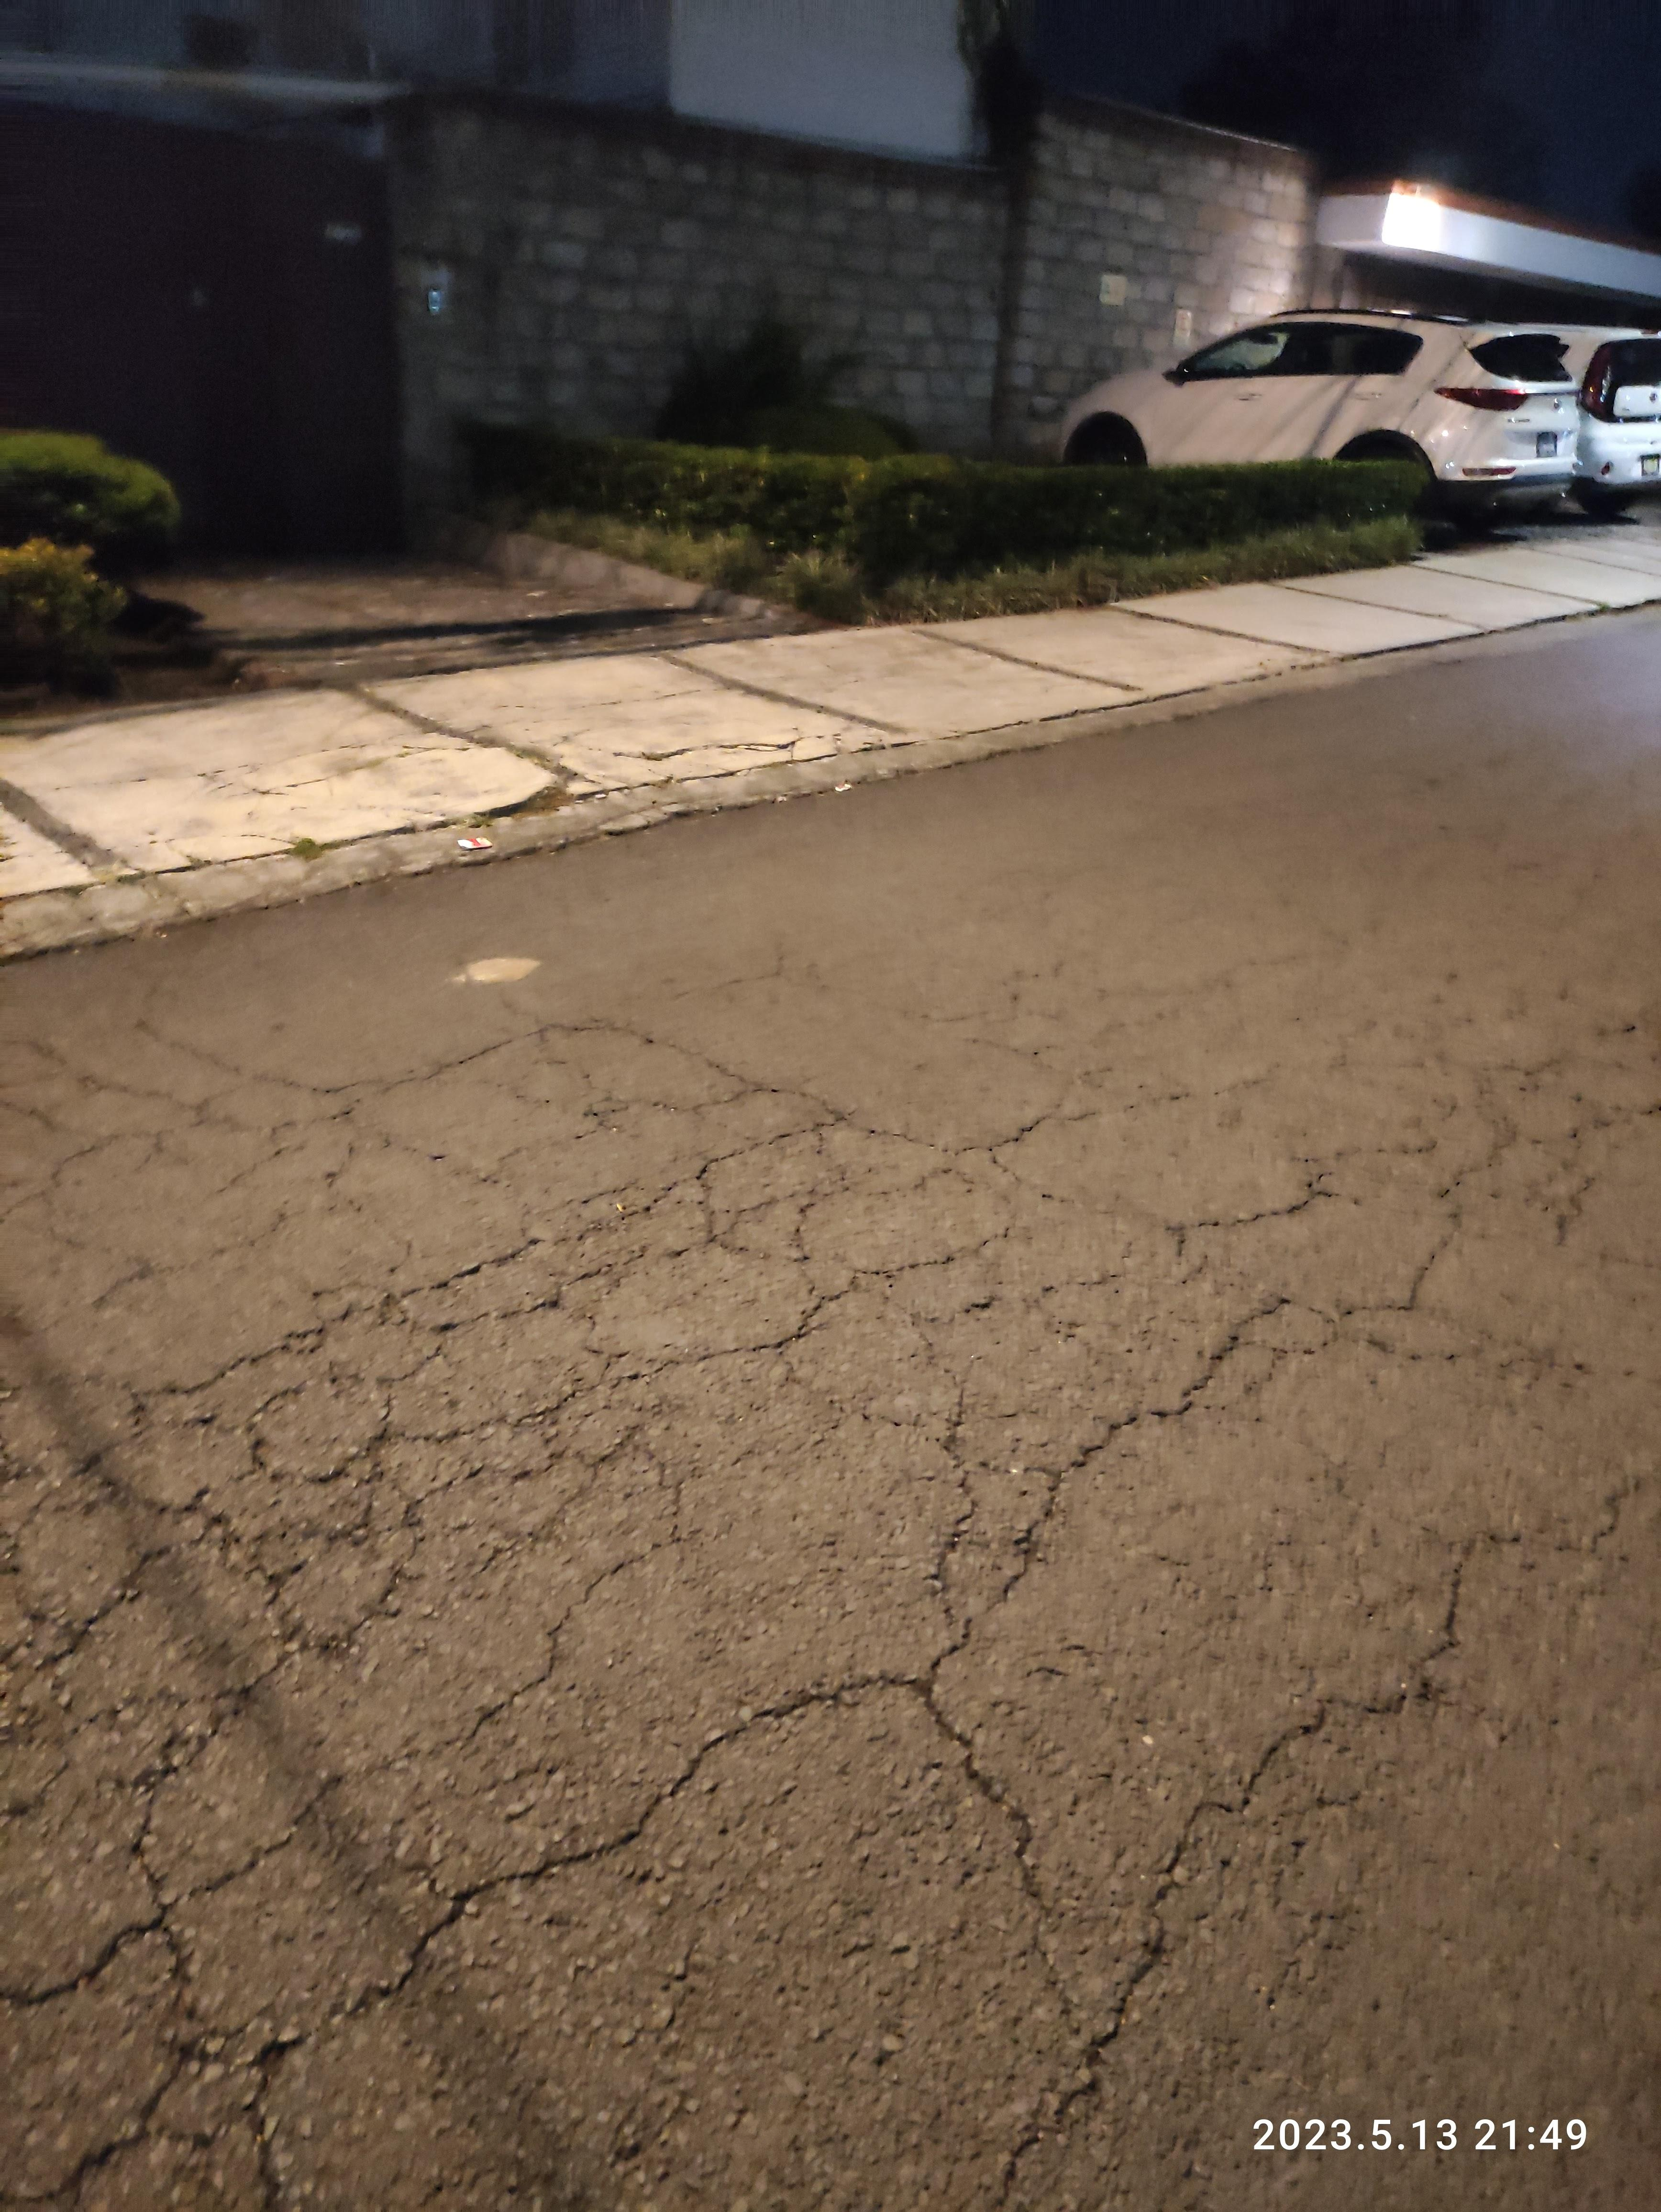alligator-crack: (19, 966, 1661, 2212)
